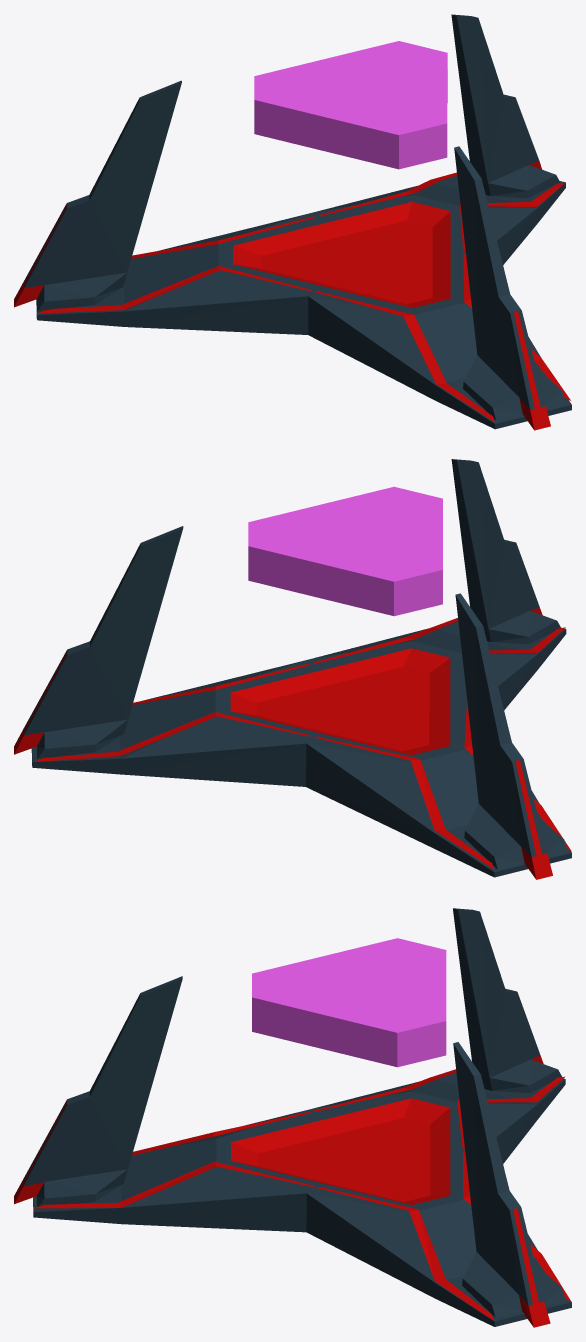
File: xmp.obj
3 views of the same model, one above another, from view 1: azimuth 30°, elevation 25°; view 2: azimuth 150°, elevation 25°; view 3: azimuth 270°, elevation 25° (orthographic).
Visible parts, largest first — view 1: xmp:Mesh, xmpXM:Mesh; view 2: xmp:Mesh, xmpXM:Mesh; view 3: xmp:Mesh, xmpXM:Mesh.
Boxes of the visible parts, x1,y1,x2,y2 form: xmp:Mesh: (14, 14, 571, 430); xmpXM:Mesh: (254, 41, 447, 169); xmp:Mesh: (14, 459, 571, 879); xmpXM:Mesh: (248, 486, 442, 616); xmp:Mesh: (14, 908, 571, 1327); xmpXM:Mesh: (252, 938, 446, 1067).
Size of the model in its own units: 0.9041 by 0.3564 by 0.8123.
Materials: 3 (3 with a texture image).
